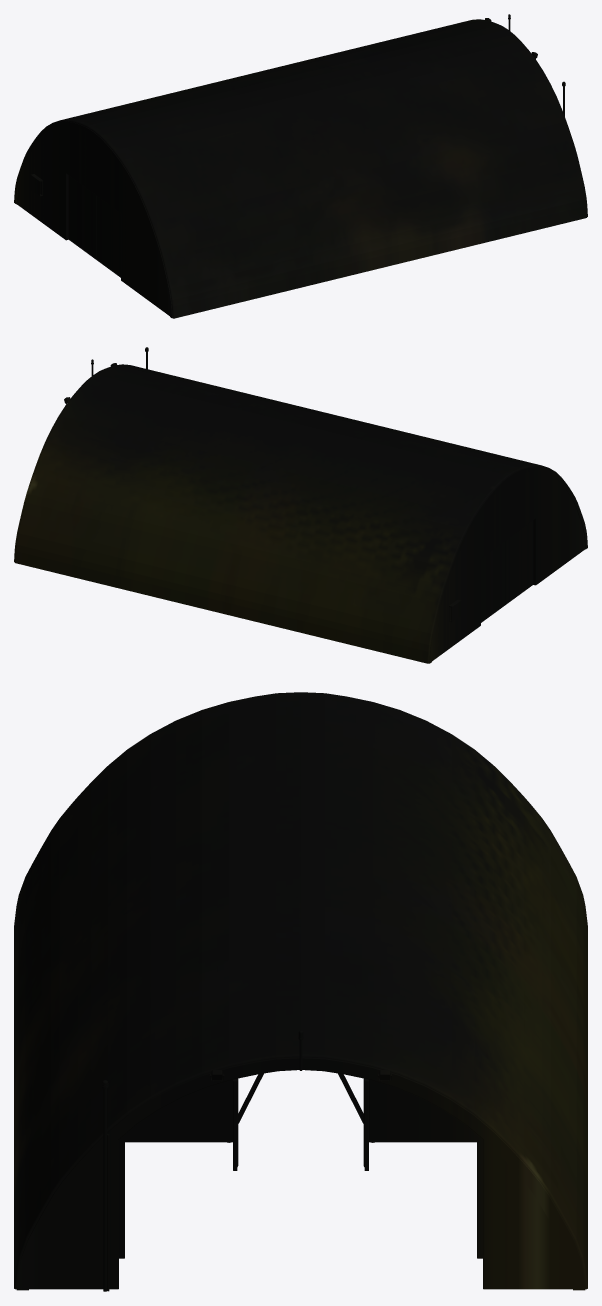
The model's file is hangar_nato_shelter_edited.glb.
3 renders of one model, top to bottom at view 1: azimuth 30°, elevation 25°; view 2: azimuth 150°, elevation 25°; view 3: azimuth 270°, elevation 25°, orthographic. The views are drawn at different scales.
Parts seen in each view (by area): view 1: part_7, part_3, part_2; view 2: part_7, part_2, part_3; view 3: part_7.
Part boxes in pixels (x1=…): part_7: x1=14, y1=14, x2=587, y2=318; part_3: x1=68, y1=175, x2=96, y2=259; part_2: x1=96, y1=195, x2=120, y2=277; part_7: x1=14, y1=347, x2=587, y2=663; part_2: x1=505, y1=520, x2=533, y2=604; part_3: x1=481, y1=541, x2=505, y2=622; part_7: x1=14, y1=692, x2=587, y2=1291.
Size of the model in its own units: 0.8212 by 0.2685 by 0.5359.
Materials: 1 (1 with a texture image).
